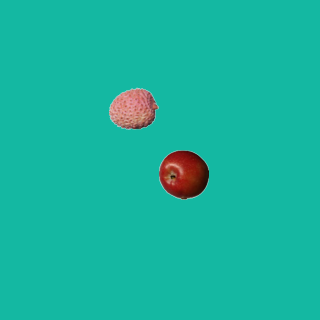Apple Braeburn: (158, 149, 208, 199)
Lychee: (108, 83, 158, 133)
